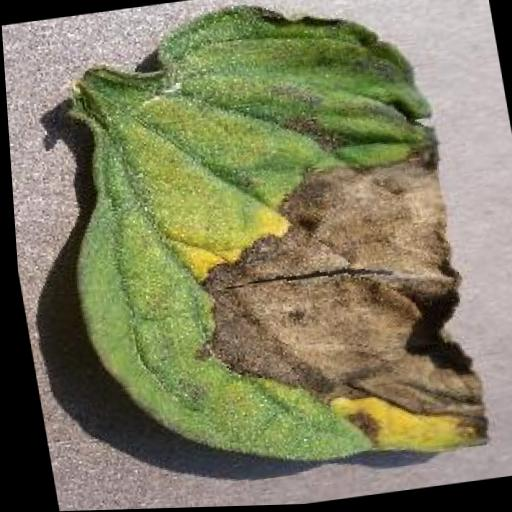Late Blight: (26, 0, 489, 500)
